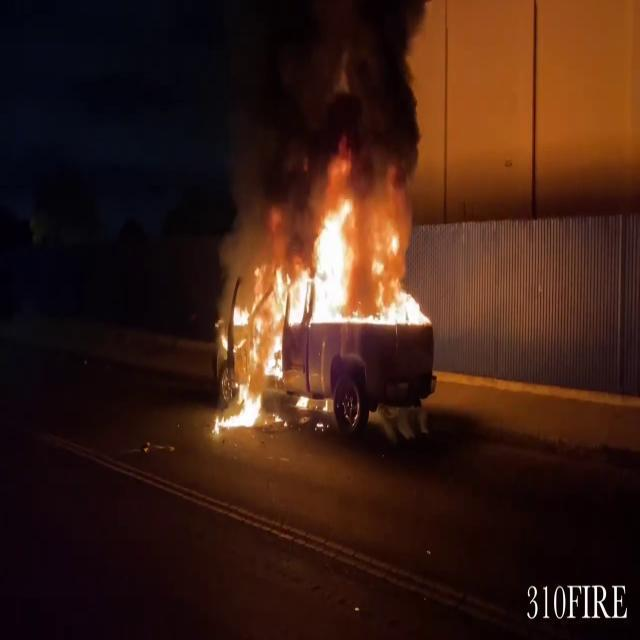Fire: (220, 185, 422, 428)
Smoke: (206, 0, 443, 251)
